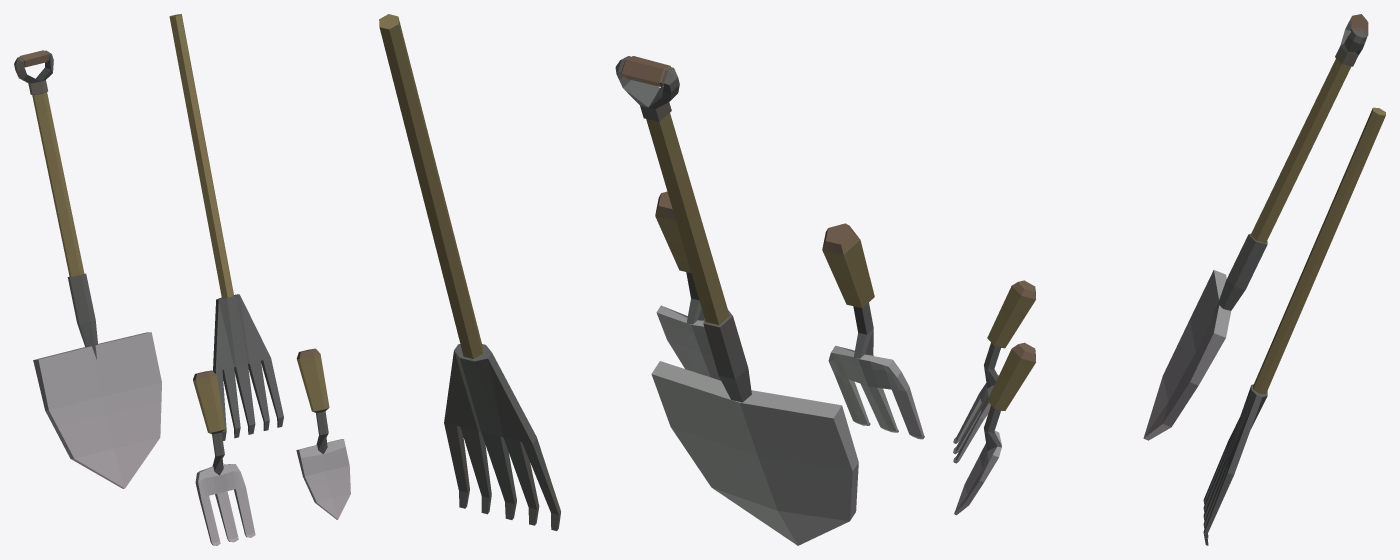
The model's file is tools.glb.
3 views of the same model, side by side, from view 1: azimuth 30°, elevation 25°; view 2: azimuth 150°, elevation 25°; view 3: azimuth 270°, elevation 25° (orthographic). The views are drawn at different scales.
Parts seen in each view (by area): view 1: Shovel_ShovelMat_0, rack_ShovelMat_0, Trowel_ShovelMat_0, Fork_ShovelMat_0; view 2: Shovel_ShovelMat_0, rack_ShovelMat_0, Fork_ShovelMat_0, Trowel_ShovelMat_0; view 3: Shovel_ShovelMat_0, rack_ShovelMat_0, Trowel_ShovelMat_0, Fork_ShovelMat_0.
Boxes of the visible parts, left/top/right/bottom form: Shovel_ShovelMat_0: left=14, top=50, right=161, bottom=488; rack_ShovelMat_0: left=169, top=14, right=283, bottom=440; Trowel_ShovelMat_0: left=296, top=348, right=350, bottom=519; Fork_ShovelMat_0: left=193, top=370, right=255, bottom=545; Shovel_ShovelMat_0: left=615, top=56, right=858, bottom=545; rack_ShovelMat_0: left=379, top=14, right=560, bottom=530; Fork_ShovelMat_0: left=822, top=223, right=924, bottom=439; Trowel_ShovelMat_0: left=655, top=191, right=720, bottom=380; Shovel_ShovelMat_0: left=1143, top=14, right=1368, bottom=440; rack_ShovelMat_0: left=1203, top=107, right=1385, bottom=545; Trowel_ShovelMat_0: left=954, top=342, right=1035, bottom=515; Fork_ShovelMat_0: left=953, top=280, right=1035, bottom=463.
Bounding box in the file's own units: 1.98 × 2.9 × 2.69.
1 material, 1 textured.
